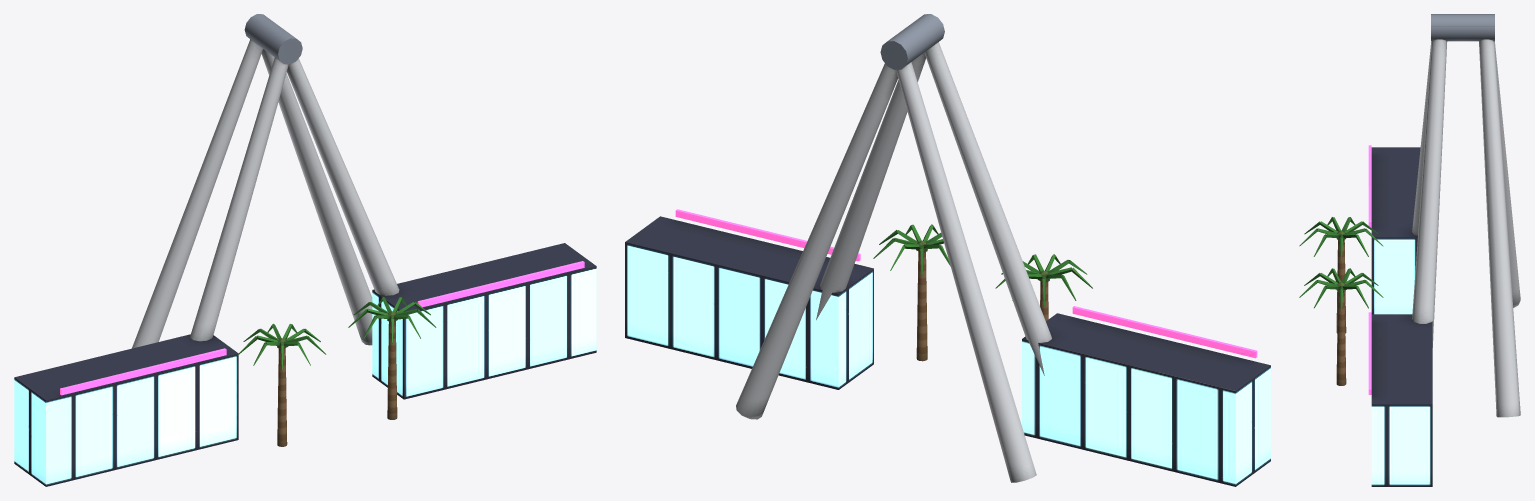
File: noria.glb
3 renders of one model, left to right at view 1: azimuth 30°, elevation 25°; view 2: azimuth 150°, elevation 25°; view 3: azimuth 270°, elevation 25°, orthographic. The views are drawn at different scales.
Visible parts, largest first — view 1: noria; view 2: noria; view 3: noria.
Part boxes in pixels (x1=…): noria: x1=14, y1=14, x2=596, y2=486; noria: x1=625, y1=14, x2=1270, y2=486; noria: x1=1299, y1=14, x2=1520, y2=486.
Bounding box in the file's own units: 40 × 25.18 × 14.57.
Materials: 1 (1 with a texture image).
